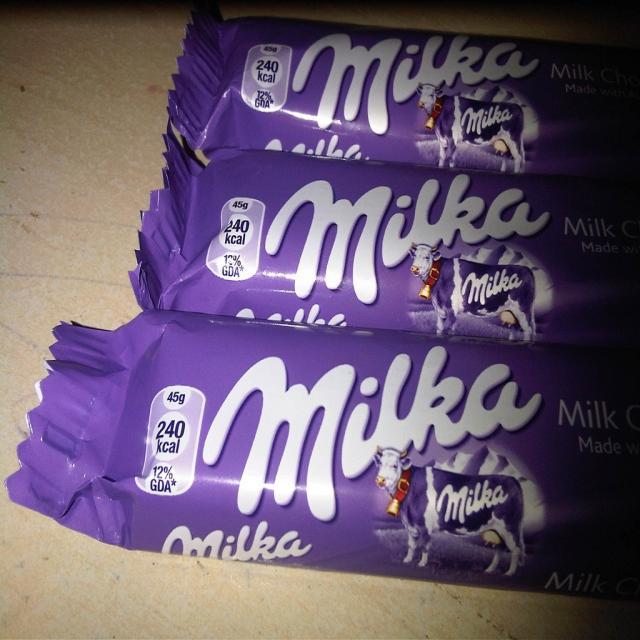milka: (201, 347, 553, 584), (262, 171, 556, 351), (289, 26, 544, 180), (160, 519, 315, 573)
